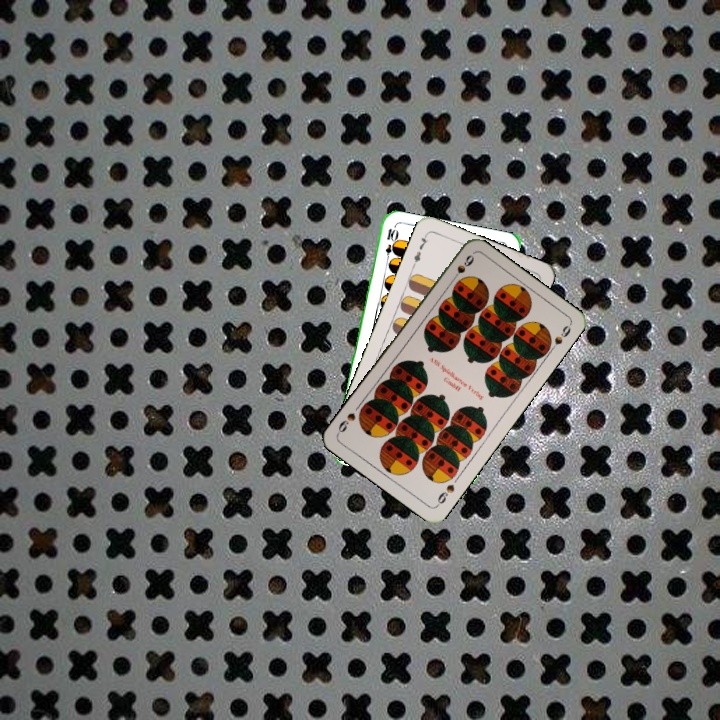E10: (381, 224, 398, 265)
E7: (409, 230, 431, 269)
S9: (447, 251, 477, 285), (432, 480, 457, 509)
